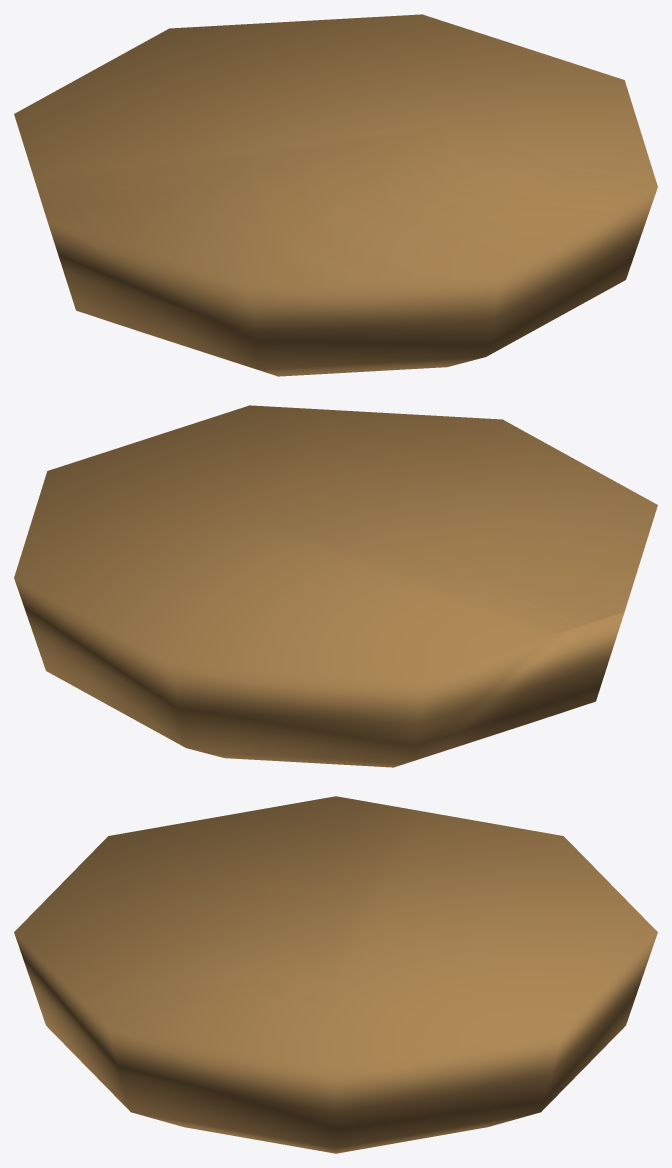
The model's file is UnderBun.fbx.
The picture shows the model from 3 angles, top to bottom: view 1: azimuth 30°, elevation 25°; view 2: azimuth 150°, elevation 25°; view 3: azimuth 270°, elevation 25°; orthographic projection. The views are drawn at different scales.
Parts seen in each view (by area): view 1: BunBottum; view 2: BunBottum; view 3: BunBottum.
Part boxes in pixels (<box>): BunBottum: <box>14,14,657,376</box>; BunBottum: <box>14,405,657,767</box>; BunBottum: <box>14,796,657,1153</box>.
Bounding box in the file's own units: 22.99 × 5.68 × 22.99.
